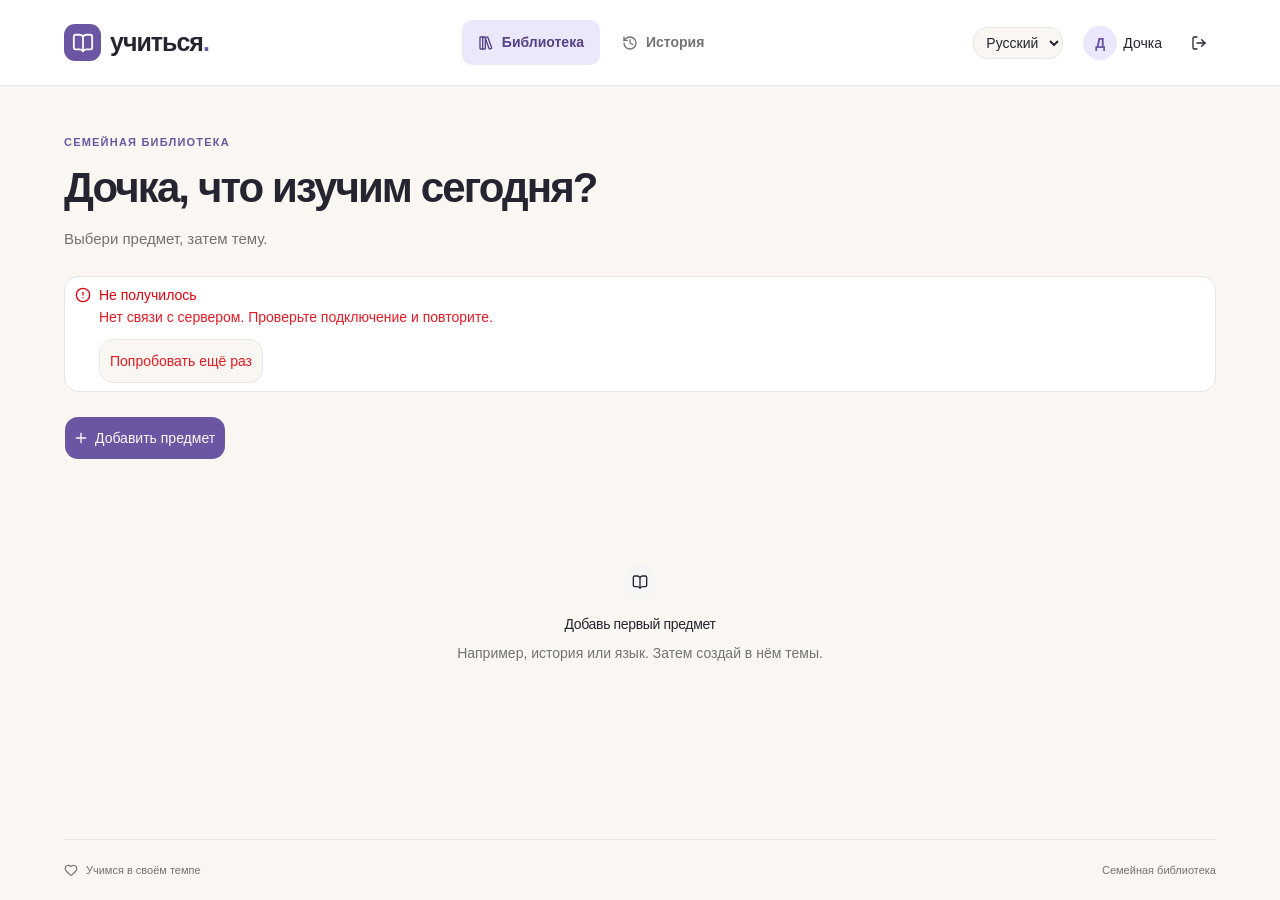
short new password never reaches the server
The width and height of the screenshot is (1280, 900).
Click the button with aria-label "Профиль" at x=1123, y=42, box [1072,26,1173,58]
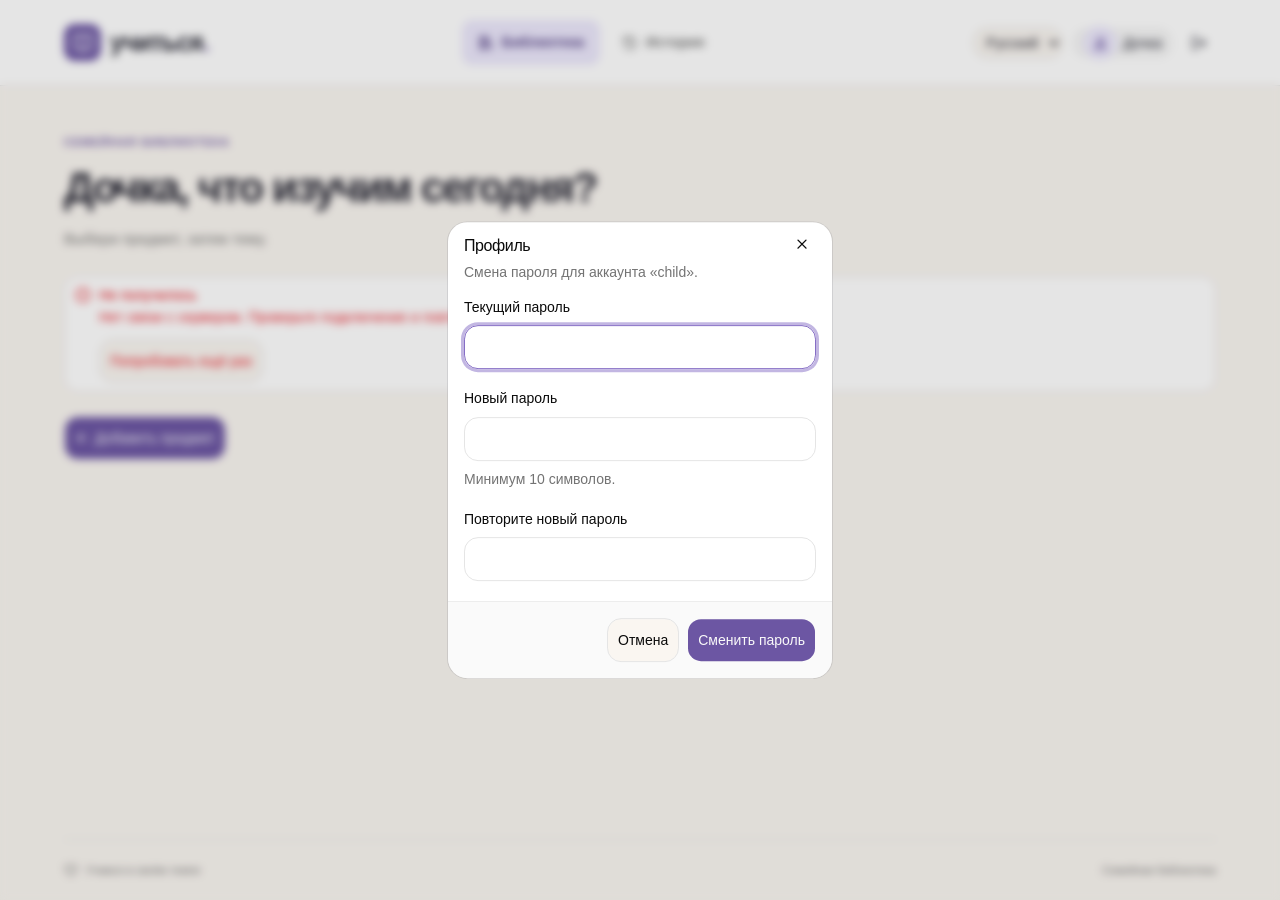
Type "old-family-password" into the password field labelled "Текущий пароль" at x=640, y=347, box [464,325,816,369]
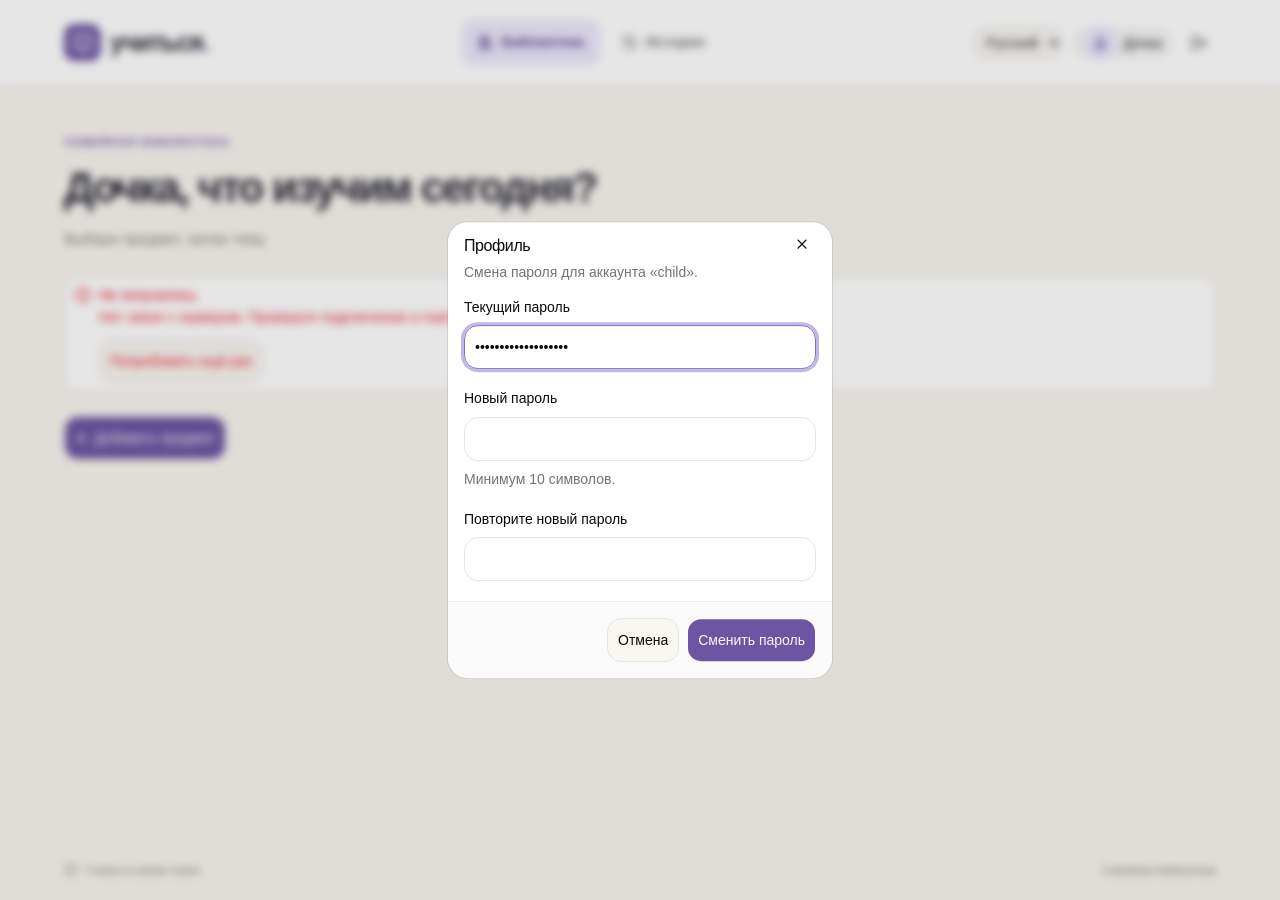
Type "tiny" into the password field labelled "Новый пароль" at x=640, y=439, box [464,417,816,461]
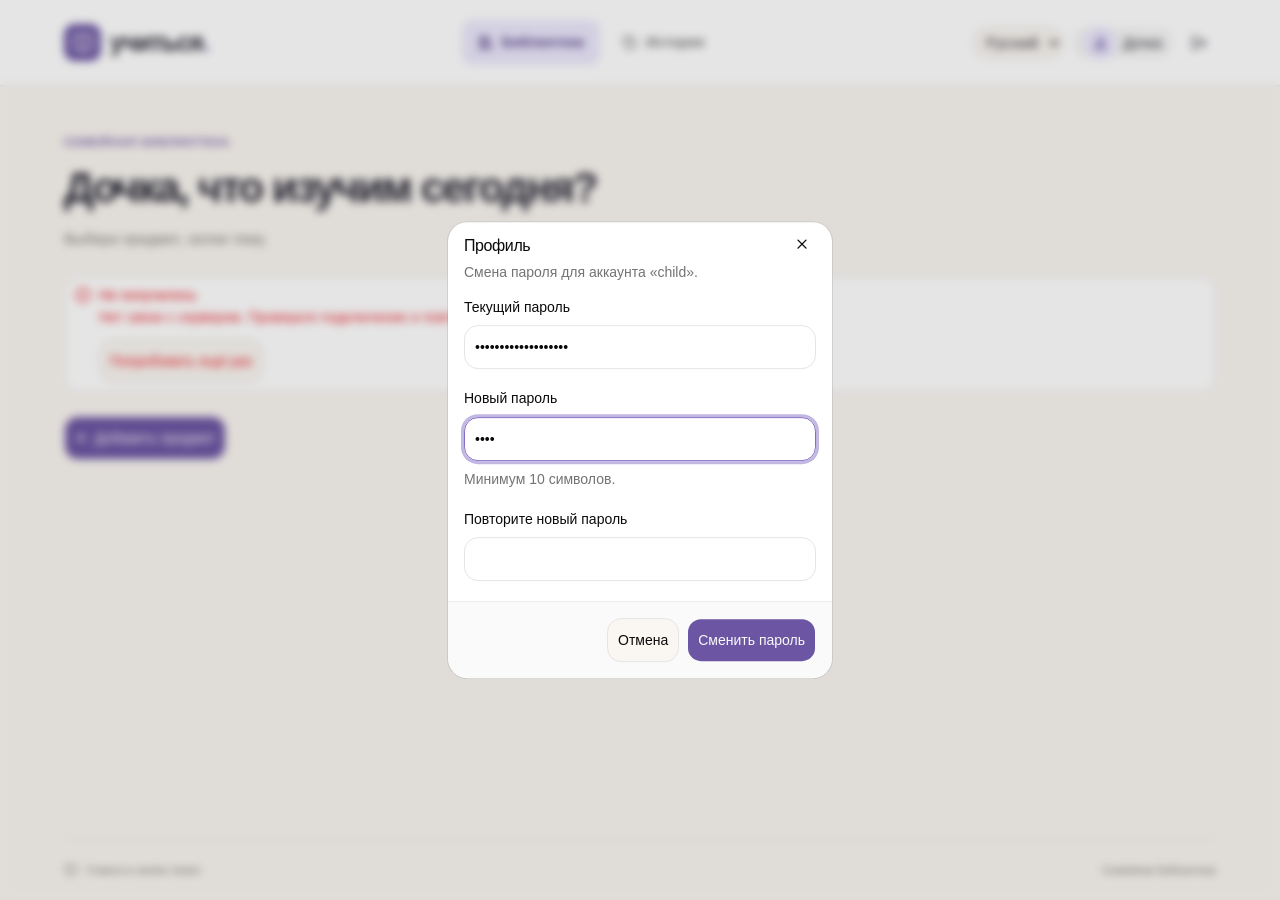
Type "tiny" into the password field labelled "Повторите новый пароль" at x=640, y=559, box [464,537,816,581]
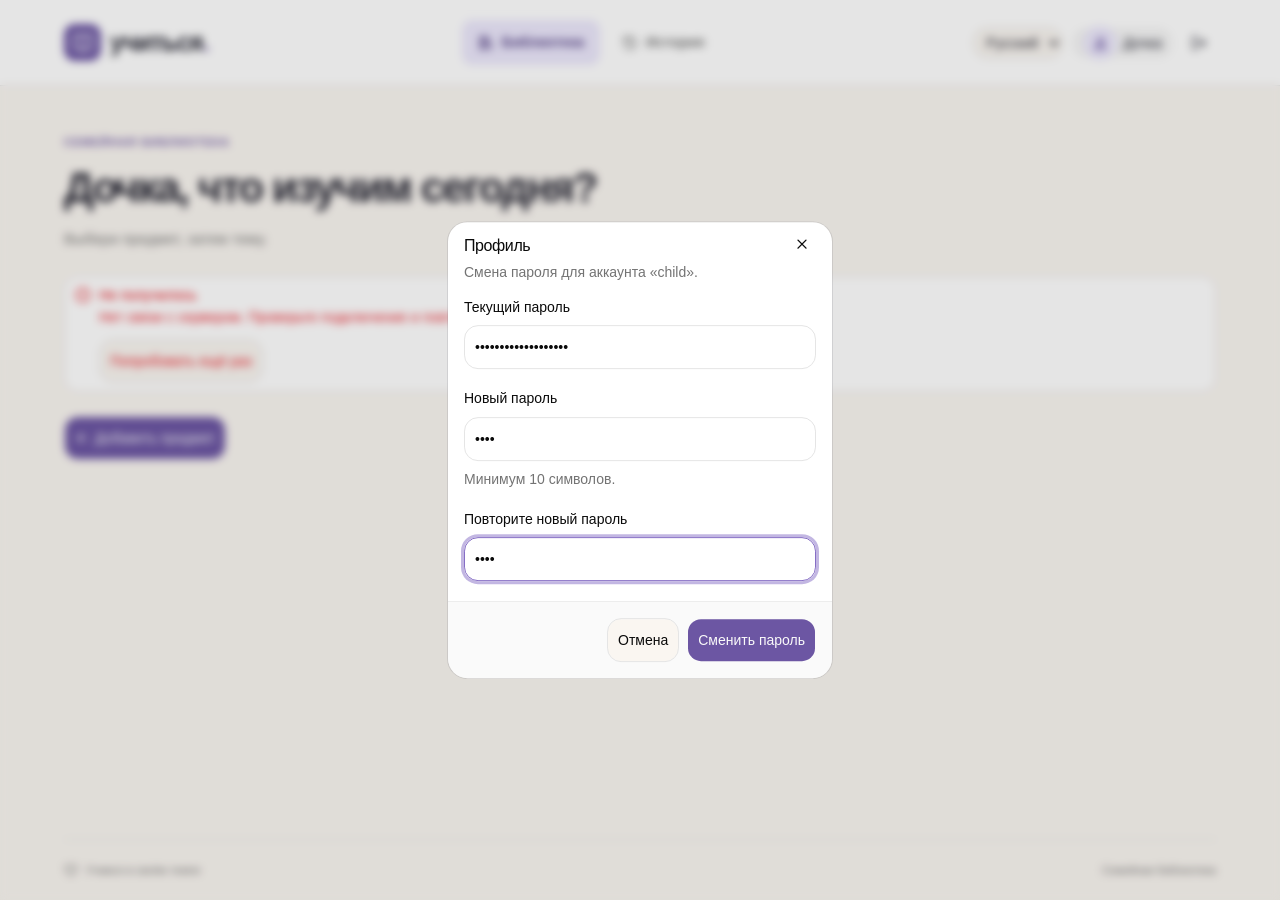
Click the button "Сменить пароль" at x=752, y=640, box [687,618,816,662]
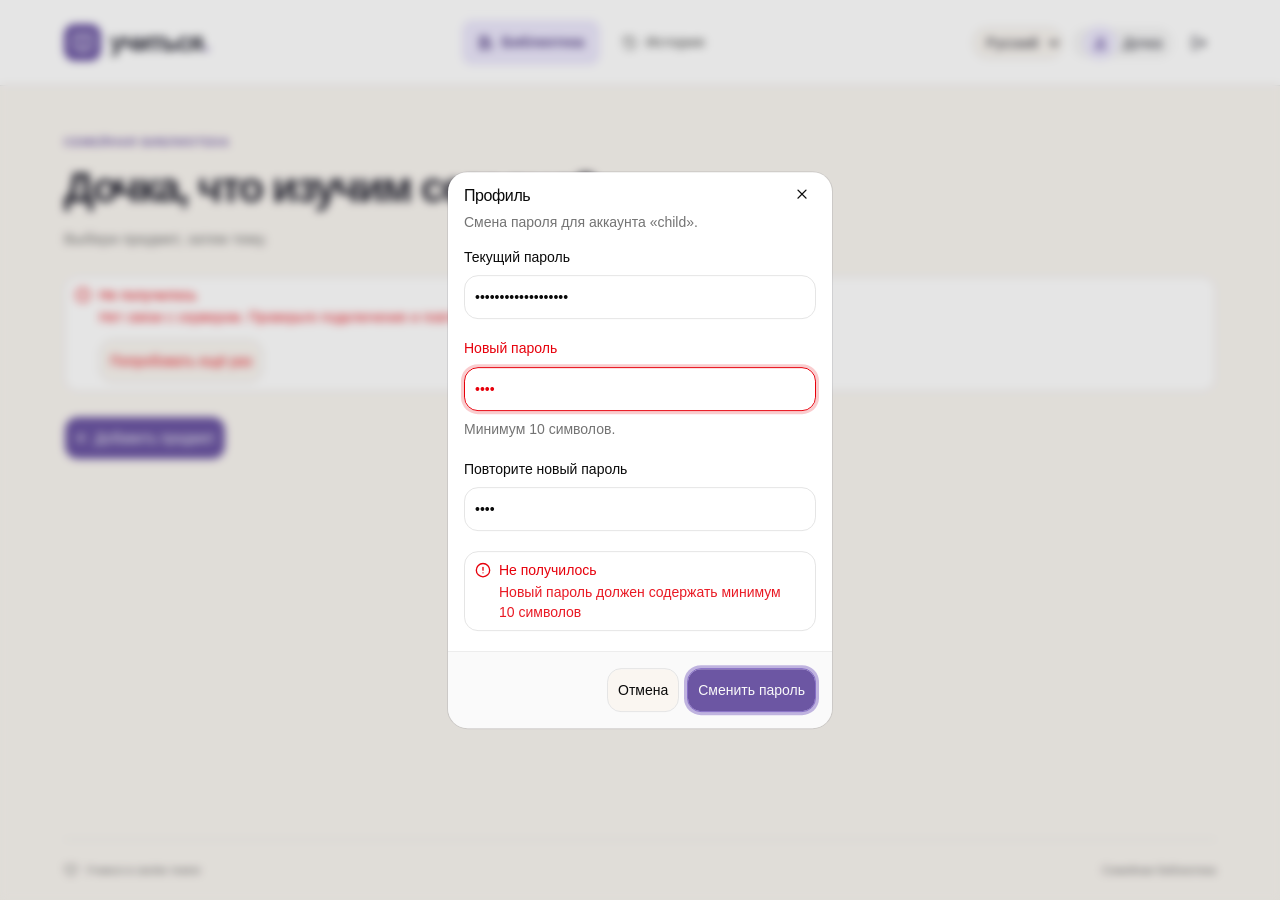
Now the message shows "Новый пароль должен содержать минимум 10 символов", box [499,584,781,620]
